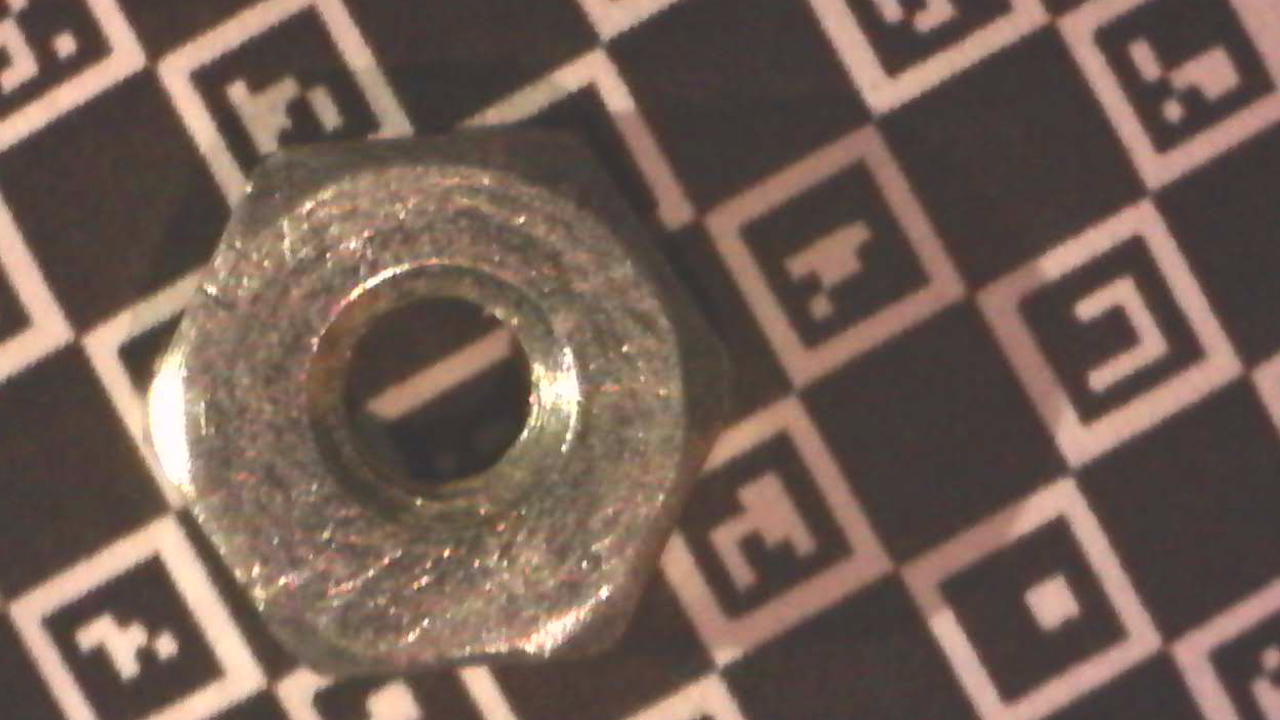Bolt: (140, 126, 744, 679)
